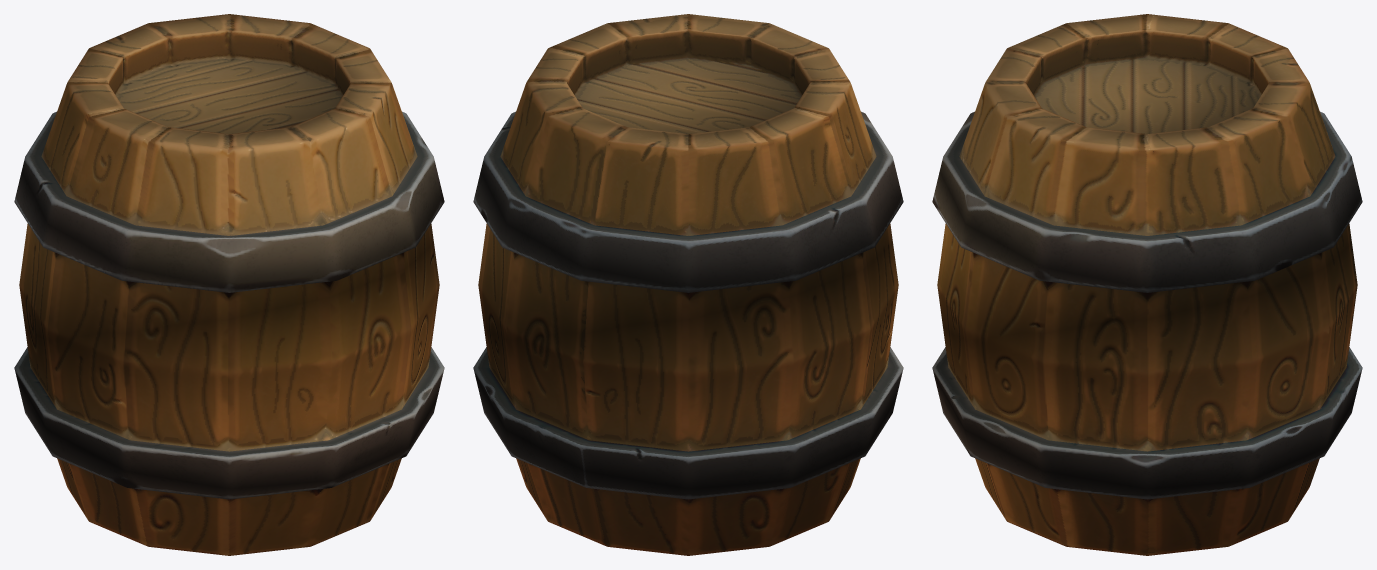
The model's file is barrel.fbx.
3 renders of one model, left to right at view 1: azimuth 30°, elevation 25°; view 2: azimuth 150°, elevation 25°; view 3: azimuth 270°, elevation 25°, orthographic.
Parts seen in each view (by area): view 1: barrel; view 2: barrel; view 3: barrel.
Part boxes in pixels (x1,y1,x2,y2): barrel: [14, 14, 444, 555]; barrel: [473, 14, 903, 555]; barrel: [932, 14, 1362, 555].
Bounding box in the file's own units: 0.7314 × 0.7593 × 0.7314.
Materials: 1 (1 with a texture image).
